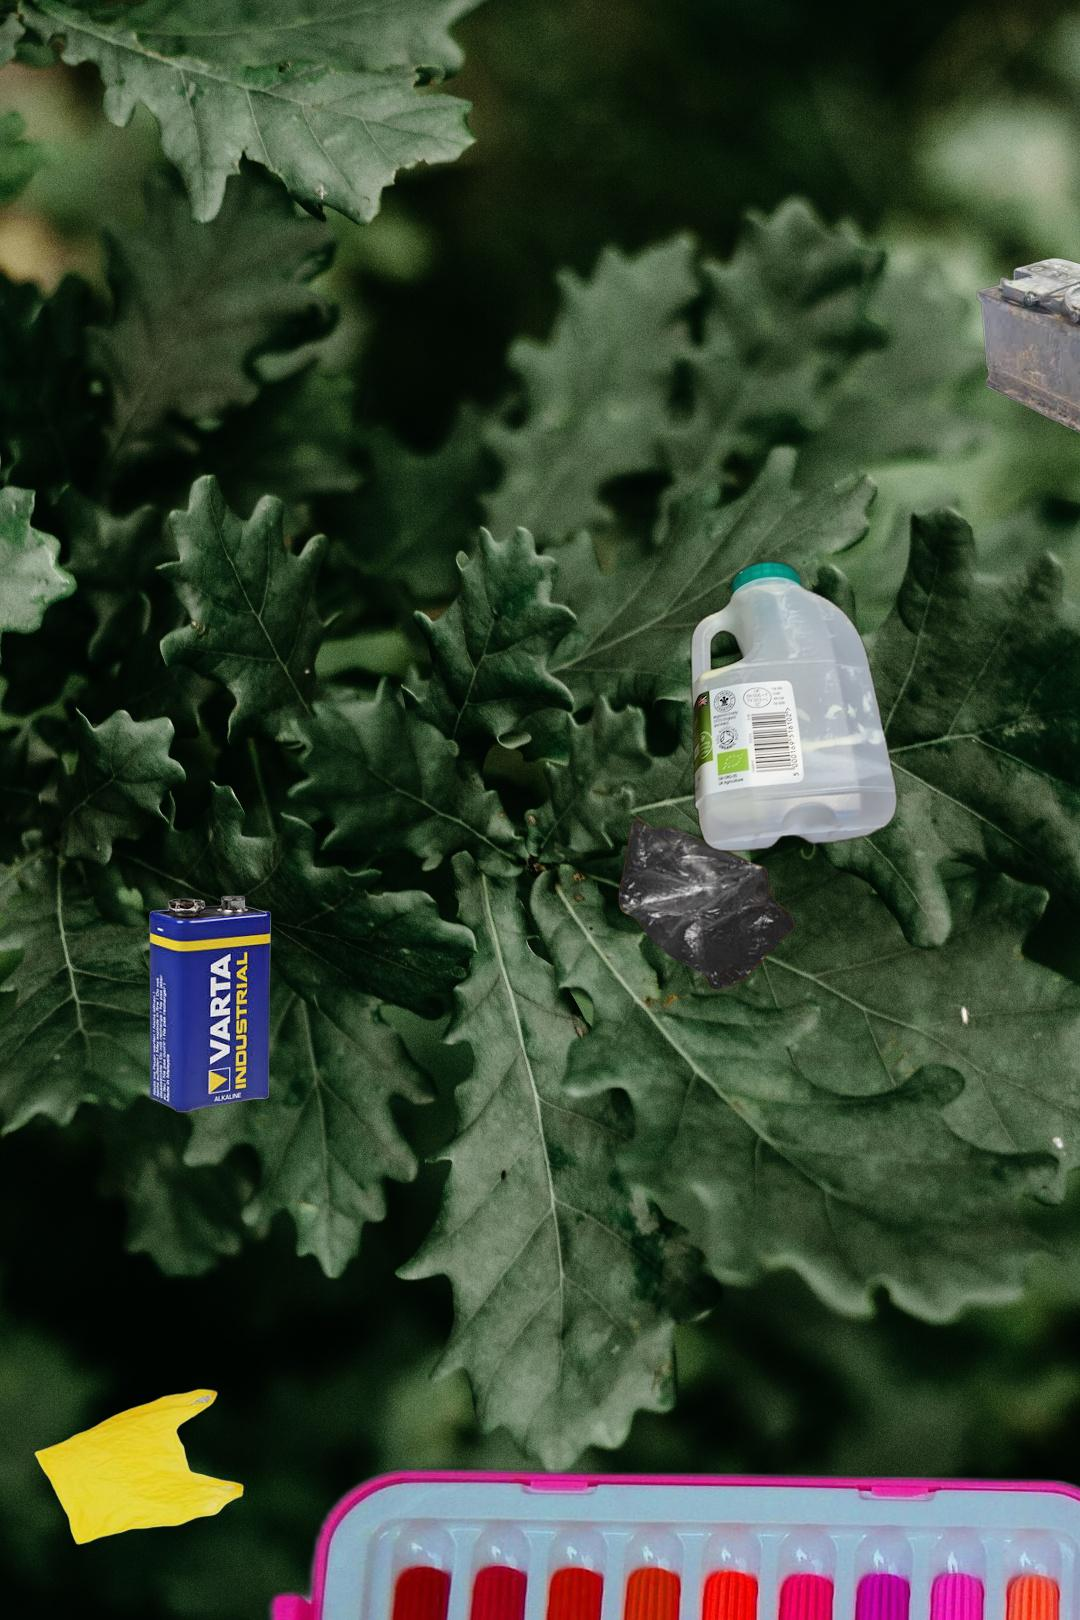battery: (146, 892, 274, 1115), (974, 256, 1080, 458)
penholder: (165, 1458, 1080, 1620)
plastic-bag: (31, 1386, 246, 1546), (617, 815, 796, 993)
plastic-bottles: (687, 554, 902, 858)
